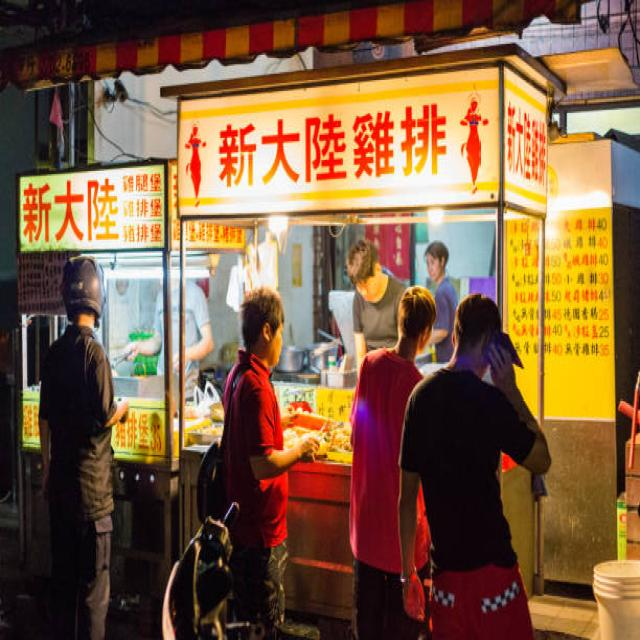Emperan: (166, 37, 577, 640), (15, 152, 207, 640)
